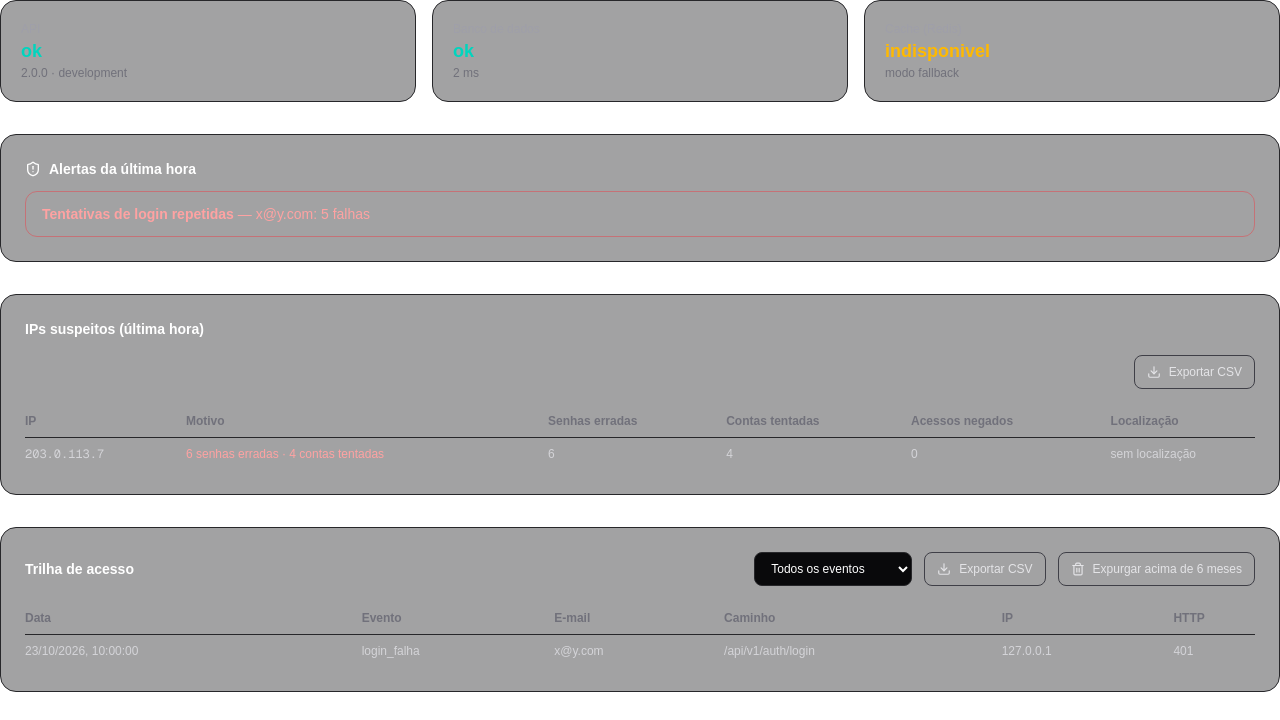
Test: ObservabilidadePlataforma › expurgo só acontece depois da confirmação
Check: the text "Tentativas de login repetidas" is shown, box [42, 206, 234, 222]
Click the button "Expurgar acima de 6 meses". click: (1156, 569)
box: [1058, 552, 1255, 586]
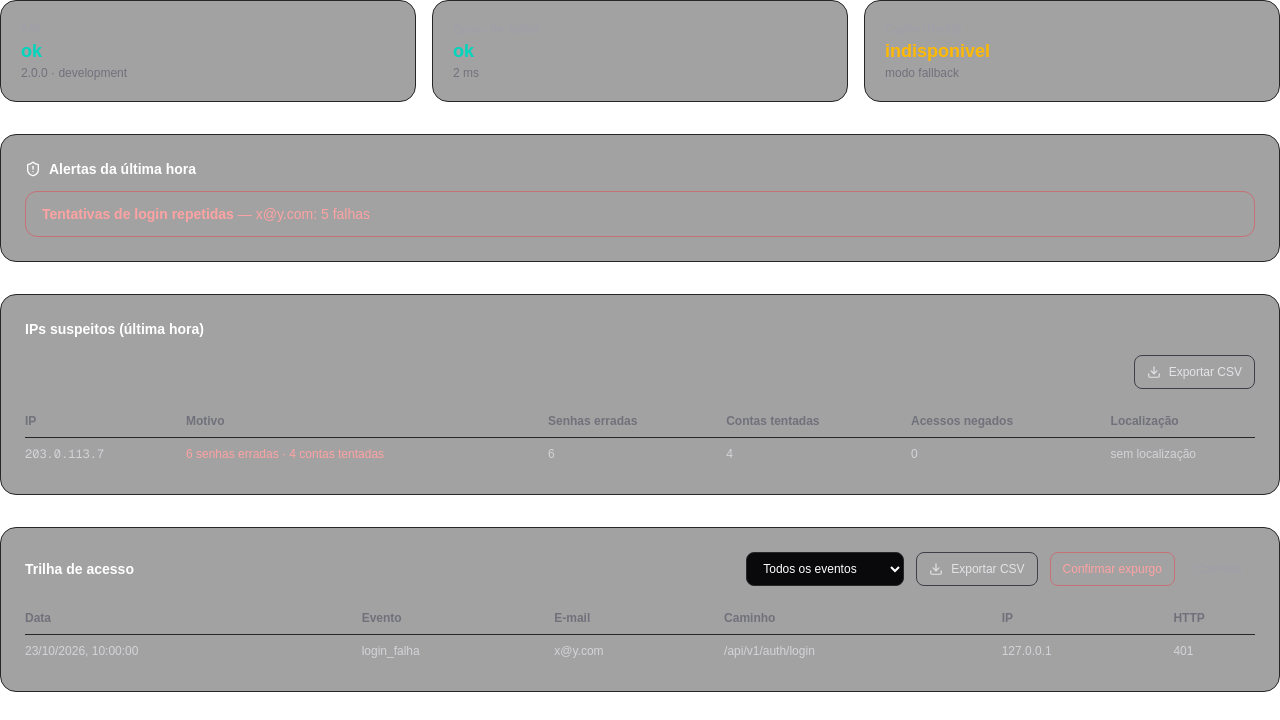
Click the button "Confirmar expurgo". click: (1112, 569)
box: [1050, 552, 1175, 586]
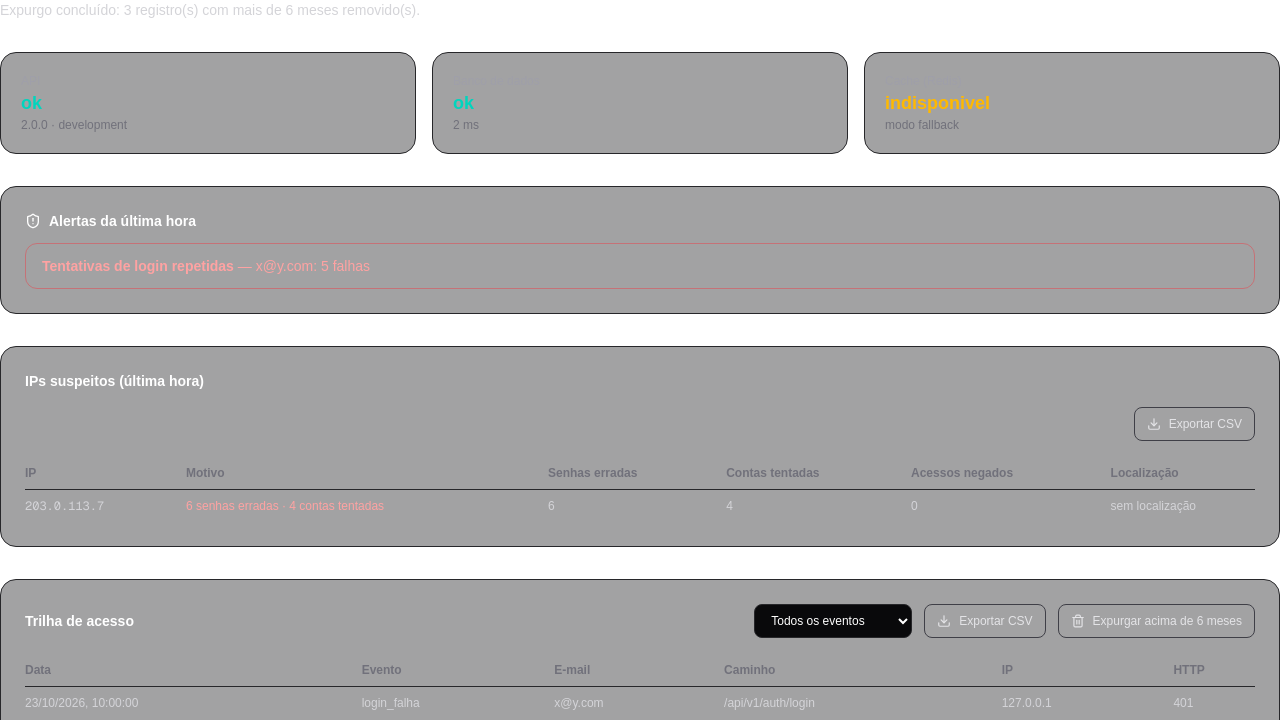
Check: the text "Expurgo concluído: 3 registro(s) com mais de 6 meses removido(s)." is shown, box [0, 2, 420, 18]
